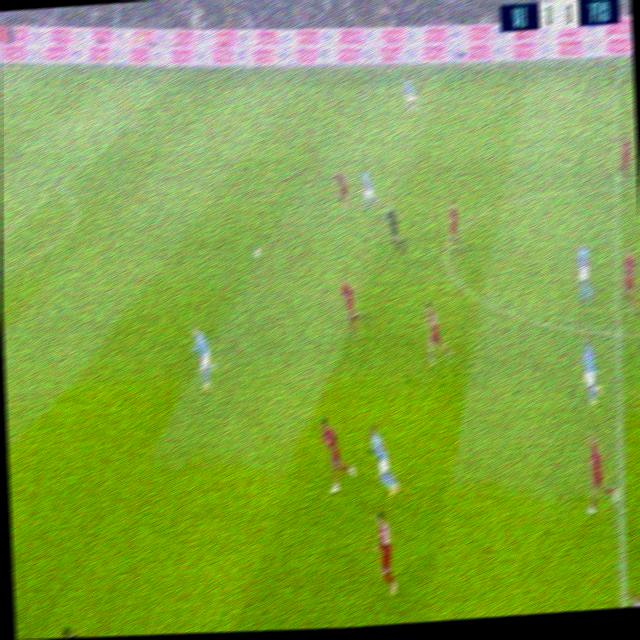bigarea_top_inner: (119, 114, 136, 136)
halfcircle_bottom: (607, 314, 633, 353)
halfcircle_top: (605, 171, 631, 201)
midline_top_intersection: (606, 55, 627, 84)
top_arc_area_intersection: (49, 175, 67, 196)
